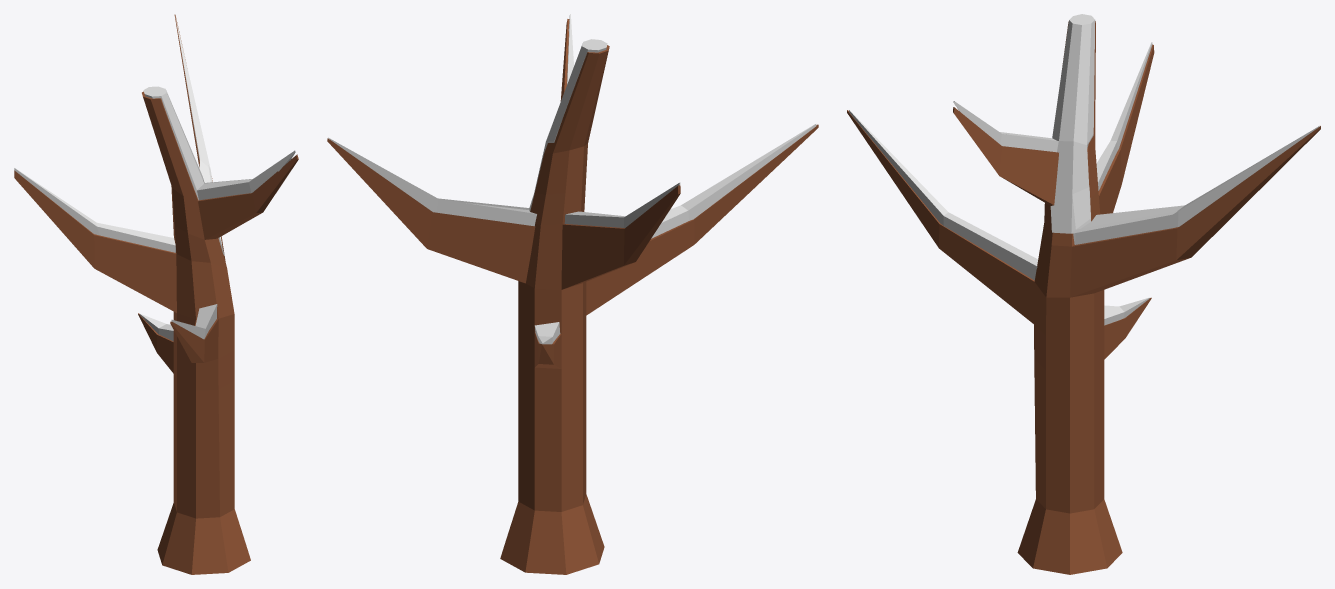
The model's file is Tree2_Snow.fbx.
3 renders of one model, left to right at view 1: azimuth 30°, elevation 25°; view 2: azimuth 150°, elevation 25°; view 3: azimuth 270°, elevation 25°, orthographic. The views are drawn at different scales.
Parts seen in each view (by area): view 1: Tree2, Snow; view 2: Tree2, Snow; view 3: Tree2, Snow.
Part boxes in pixels (x1,y1,x2,y2): Tree2: [14, 14, 298, 574]; Snow: [14, 14, 295, 341]; Tree2: [327, 19, 818, 574]; Snow: [328, 14, 816, 344]; Tree2: [847, 21, 1320, 574]; Snow: [849, 14, 1319, 325].
Bounding box in the file's own units: 201 × 378 × 319.
